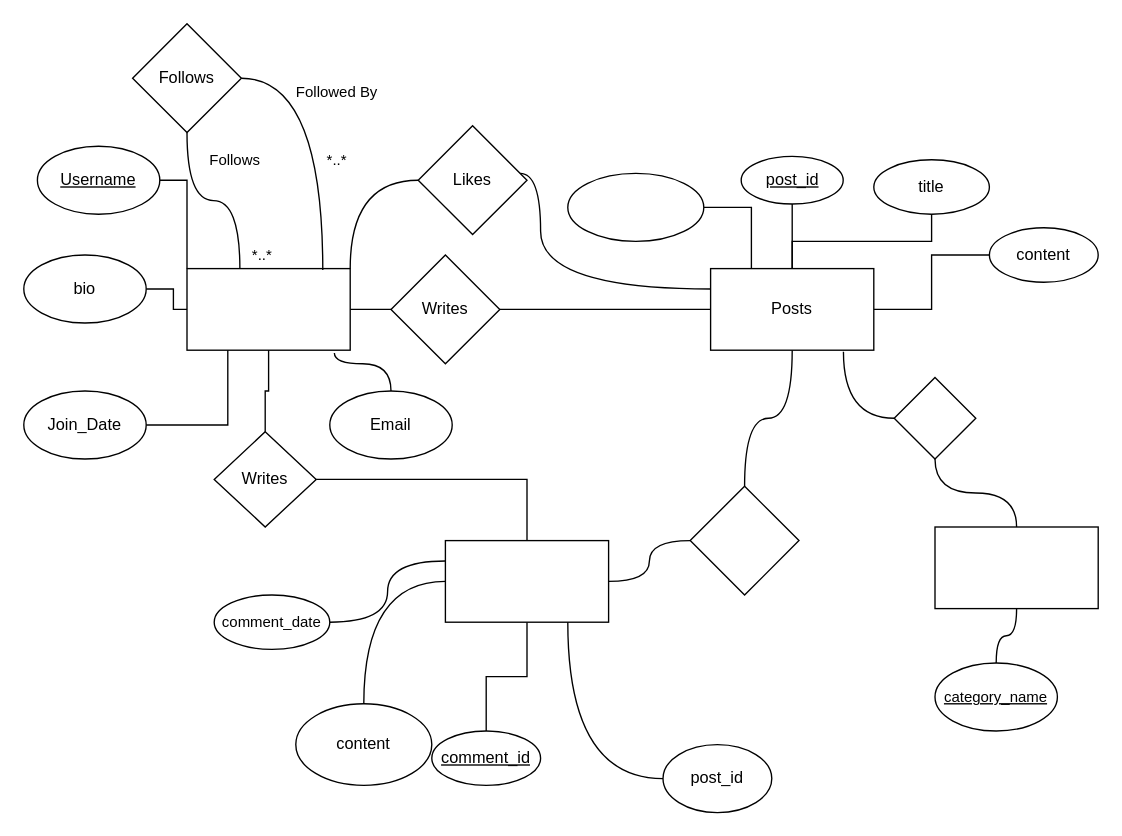
Some shapes in this 1122 by 836 pixel diagram are drawn without their labels. Each missing label, with the centre of its shape:
Category: the point at 1016,567
Comments: the point at 526,580
Contain: the point at 744,540
Contains: the point at 934,417
post_date: the point at 635,206
User: the point at 268,308
